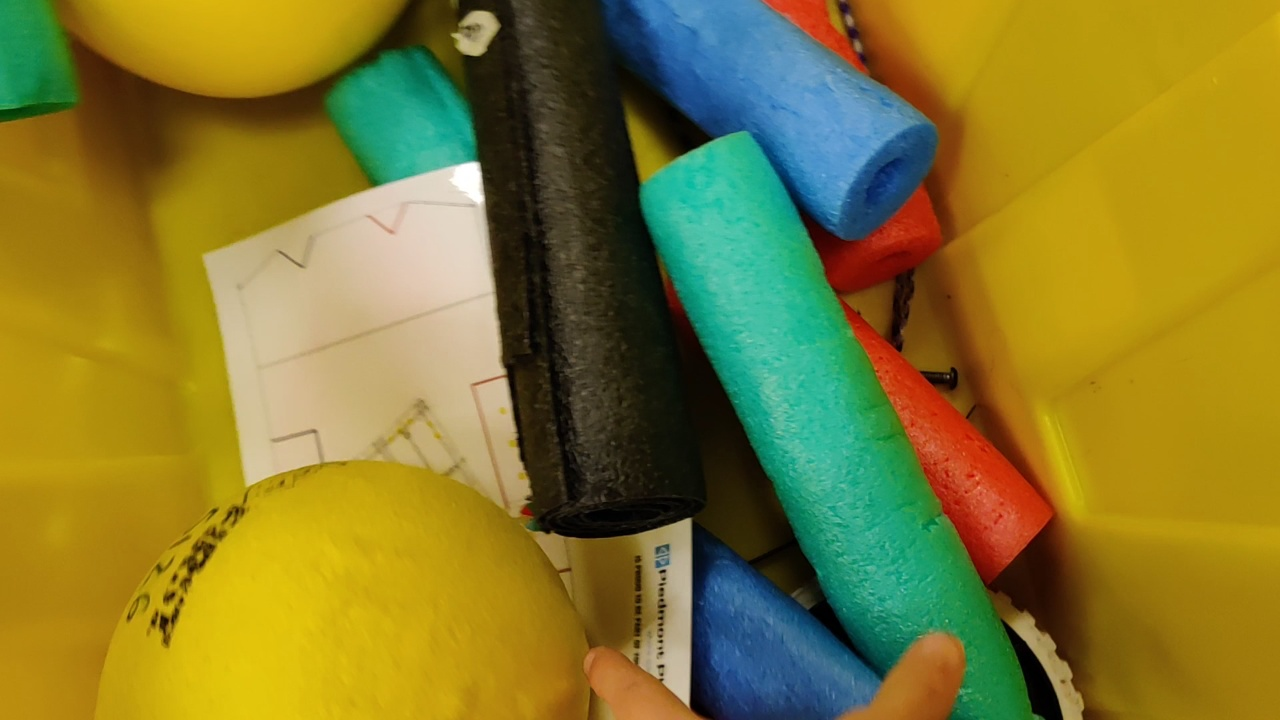Ball: (95, 462, 594, 720)
